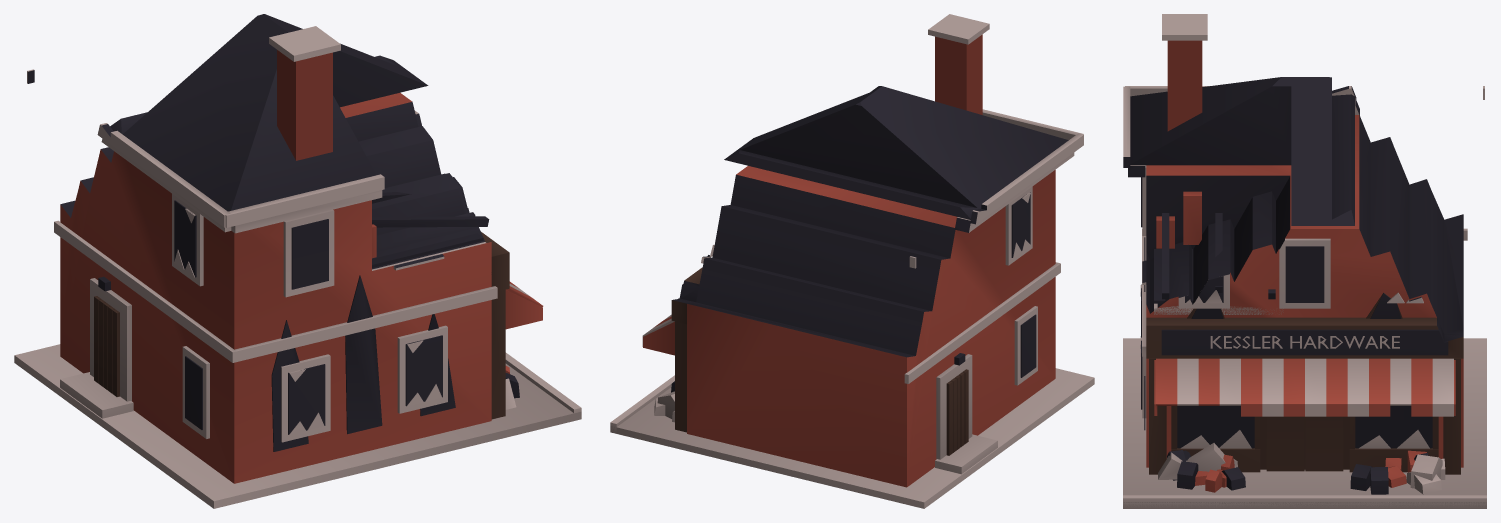
File: bld.kessler-hardware.w5.lod2.glb
3 renders of one model, left to right at view 1: azimuth 30°, elevation 25°; view 2: azimuth 150°, elevation 25°; view 3: azimuth 270°, elevation 25°, orthographic. The views are drawn at different scales.
Visible parts, largest first — view 1: body, door_cellar; view 2: body, door_cellar; view 3: body.
Boxes of the visible parts, x1=… form: body: x1=14, y1=14, x2=581, y2=508; door_cellar: x1=94, y1=296, x2=119, y2=396; body: x1=610, y1=14, x2=1094, y2=508; door_cellar: x1=946, y1=369, x2=968, y2=455; body: x1=1123, y1=14, x2=1486, y2=508.
Size of the model in its own units: 10 by 10.73 by 9.4.
